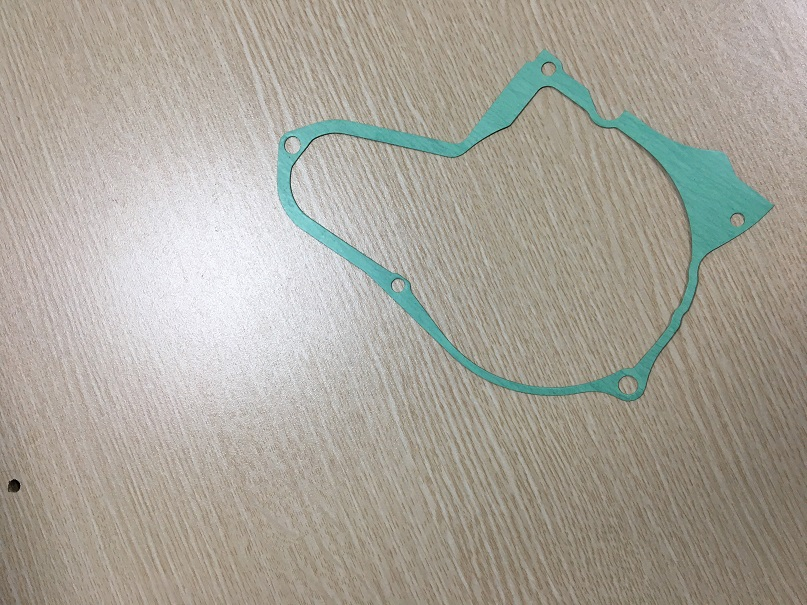type1: (265, 47, 776, 411)
